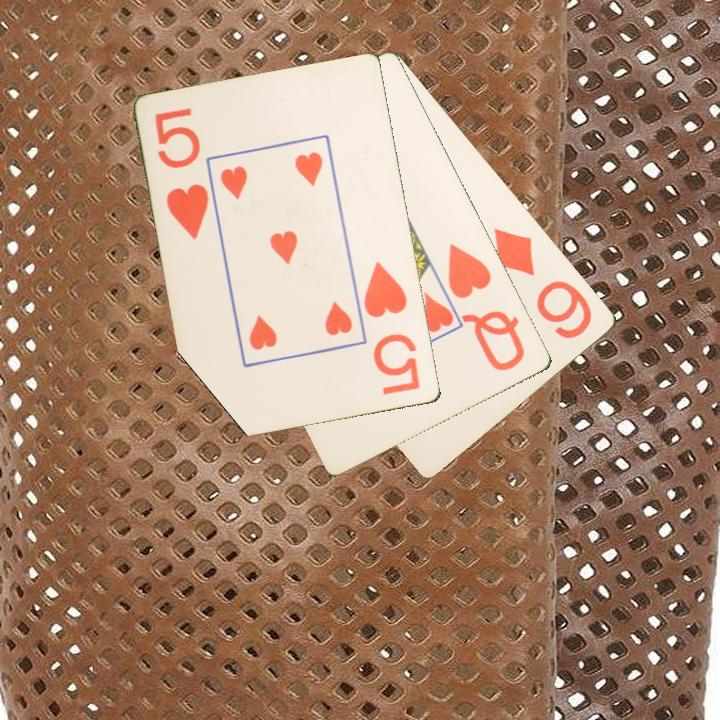5h: (360, 258, 424, 399), (152, 104, 213, 243)
6d: (490, 224, 596, 342)
Qh: (444, 240, 529, 375)
